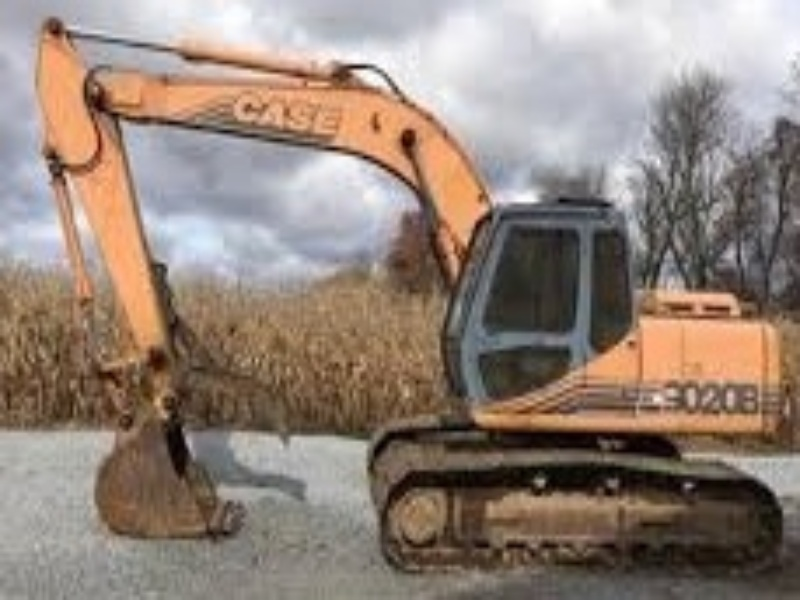wajueji: (29, 10, 779, 574)
